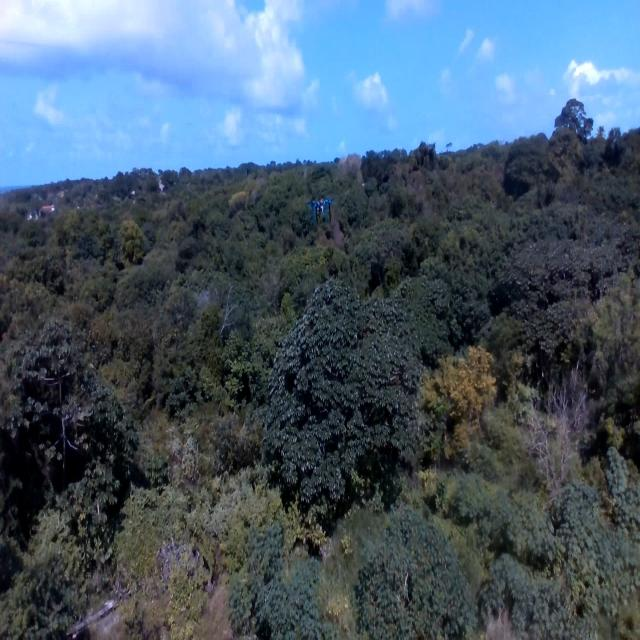-uav-: (303, 186, 338, 233)
